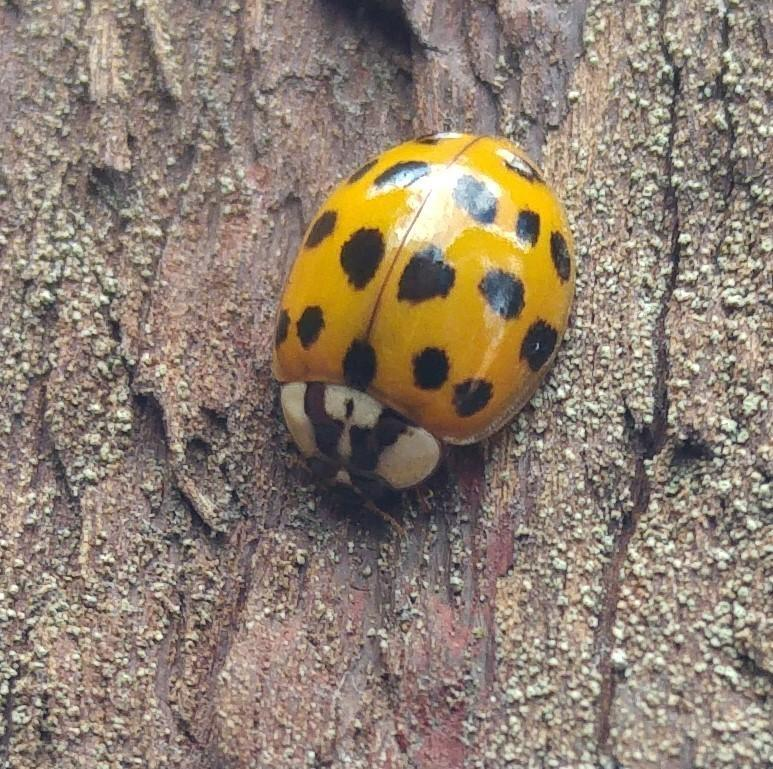ladybug: (269, 127, 583, 511)
